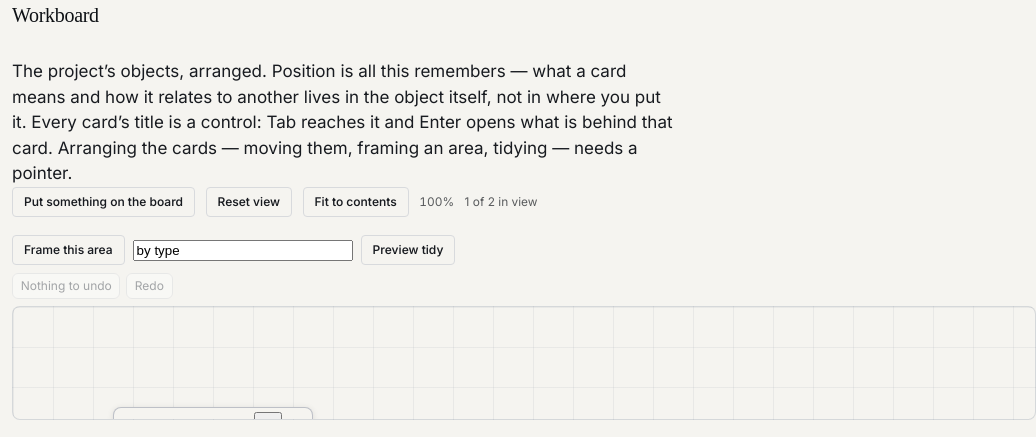
Test: putting something on the board › offers what is not on the board yet
The image size is (1036, 437).
Click the button "Put something on the board" at [104, 202], box left=12, top=186, right=195, bottom=216
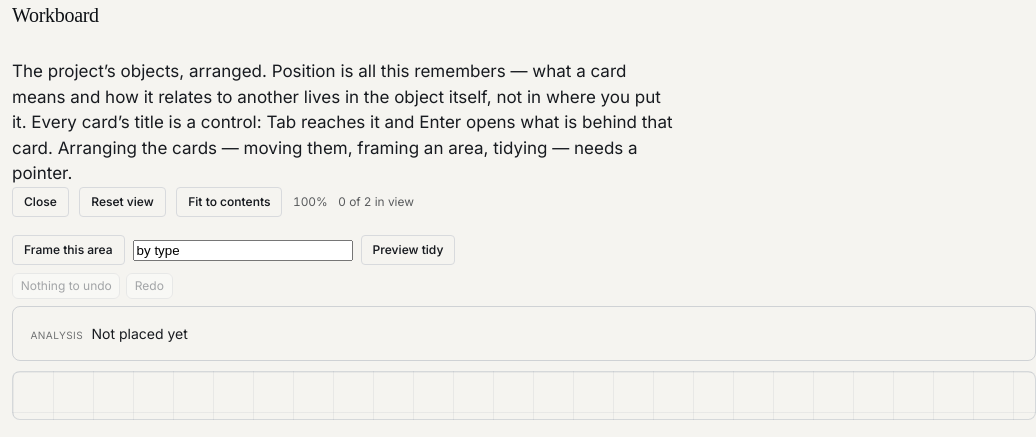
expect the text "Not placed yet" is shown: met, box left=92, top=323, right=188, bottom=344
